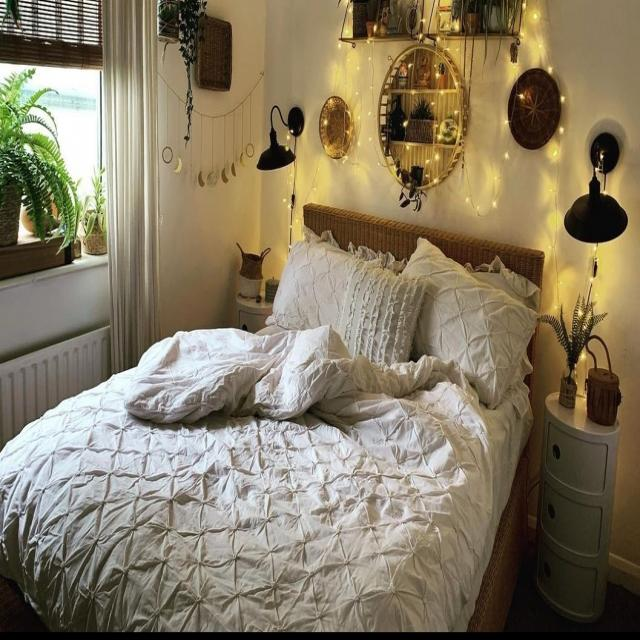bed: (0, 233, 536, 640)
